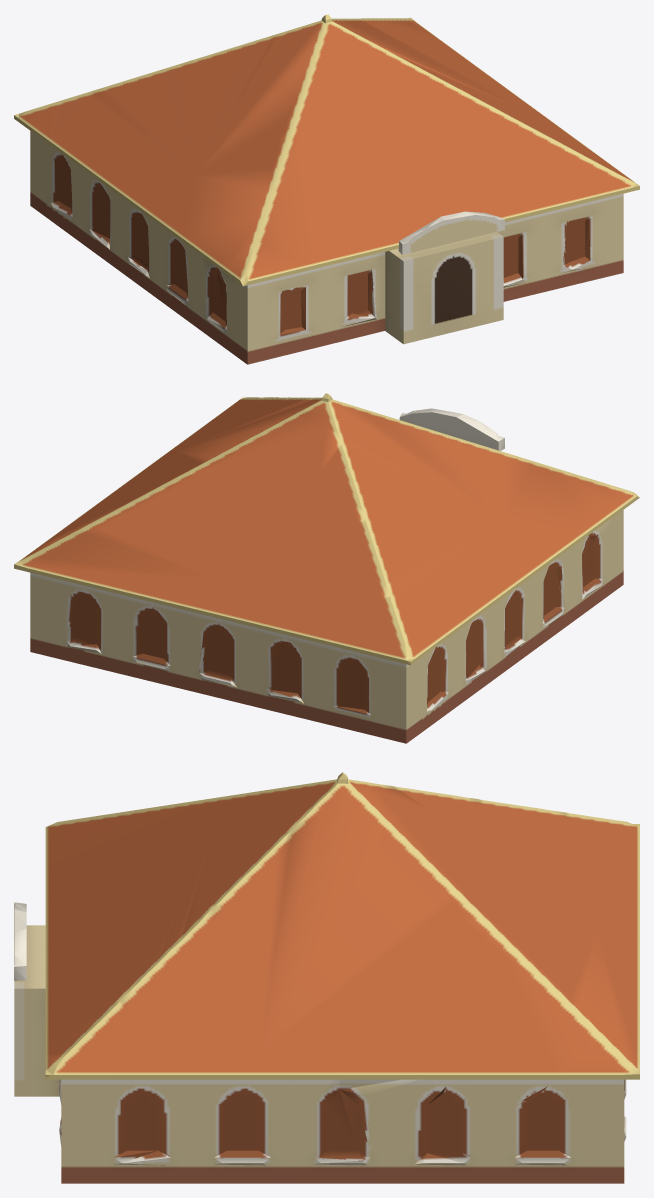
File: nha_mai_ngoi_cam.mid.glb
The picture shows the model from 3 angles, top to bottom: view 1: azimuth 30°, elevation 25°; view 2: azimuth 150°, elevation 25°; view 3: azimuth 270°, elevation 25°; orthographic projection. The views are drawn at different scales.
Parts seen in each view (by area): view 1: nha_mai_ngoi_cam; view 2: nha_mai_ngoi_cam; view 3: nha_mai_ngoi_cam.
Boxes of the visible parts, box(x1,y1,x2,y2) form: nha_mai_ngoi_cam: box(14, 14, 639, 364); nha_mai_ngoi_cam: box(14, 393, 639, 743); nha_mai_ngoi_cam: box(14, 772, 639, 1183).
Bounding box in the file's own units: 19 × 10.29 × 20.01.
2 materials, 2 textured.
